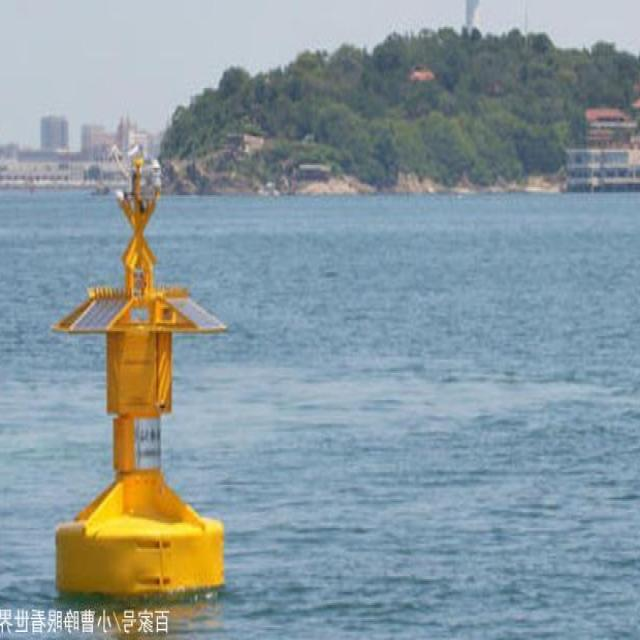buoy: (49, 152, 233, 602)
